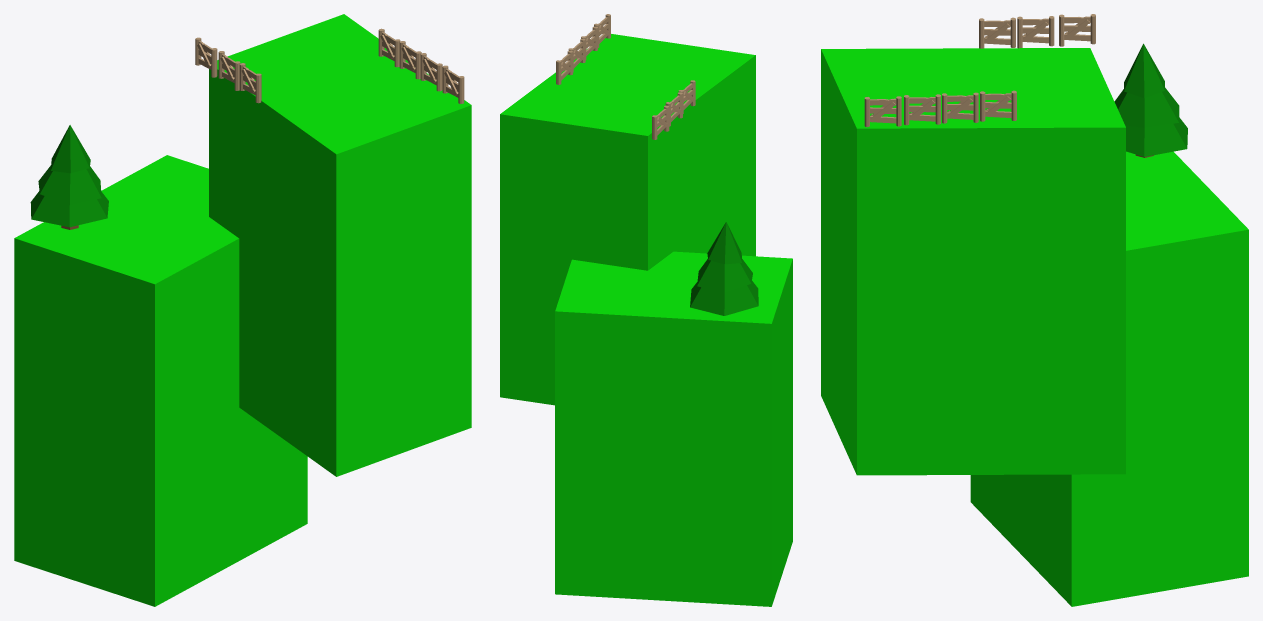
Rendered from island_2.fbx.
3 views of the same model, side by side, from view 1: azimuth 30°, elevation 25°; view 2: azimuth 150°, elevation 25°; view 3: azimuth 270°, elevation 25° (orthographic). The views are drawn at different scales.
Visible parts, largest first — view 1: Island__3_, object2, object4_7; view 2: Island__3_, object2, object4_7; view 3: Island__3_, object4_7, object2.
Boxes of the visible parts, <box> form: Island__3_: <box>14,14,471,606</box>; object2: <box>30,125,108,229</box>; object4_7: <box>195,28,464,103</box>; Island__3_: <box>500,34,792,606</box>; object2: <box>690,222,758,315</box>; object4_7: <box>556,14,695,139</box>; Island__3_: <box>821,48,1248,606</box>; object4_7: <box>864,14,1095,127</box>; object2: <box>1114,43,1187,157</box>.
Bounding box in the file's own units: 1044 × 1556 × 1118.
1 material, 1 textured.
